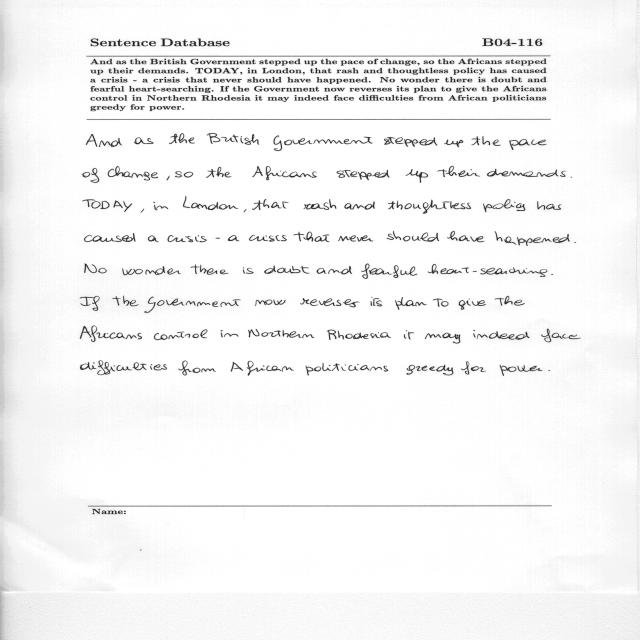word: (273, 135, 373, 151), (144, 297, 241, 313), (428, 264, 547, 277), (81, 361, 167, 375), (388, 200, 471, 214), (495, 231, 570, 246), (306, 363, 389, 375), (80, 326, 142, 342), (231, 361, 294, 376), (252, 166, 317, 180), (361, 264, 417, 279), (108, 166, 158, 181), (183, 197, 239, 210), (327, 330, 391, 340), (83, 199, 132, 212), (487, 169, 566, 177), (207, 133, 259, 145), (248, 329, 315, 338), (154, 329, 207, 340), (387, 231, 439, 242), (178, 361, 216, 376), (474, 330, 530, 340), (483, 199, 525, 212), (300, 298, 360, 307), (122, 267, 181, 276), (384, 137, 437, 147), (337, 170, 390, 180), (541, 329, 581, 342), (407, 365, 454, 376), (86, 134, 122, 147), (438, 166, 480, 177), (500, 365, 542, 376), (85, 233, 136, 242), (447, 231, 485, 242), (395, 297, 427, 310), (510, 139, 547, 150), (252, 199, 289, 210), (191, 264, 228, 275), (425, 333, 460, 344), (264, 266, 310, 274), (304, 199, 337, 210), (294, 232, 330, 242), (461, 361, 486, 375), (406, 169, 428, 183), (458, 299, 486, 310), (471, 136, 501, 146), (80, 296, 100, 311), (495, 296, 525, 306), (169, 133, 195, 144), (206, 167, 232, 178), (317, 266, 352, 274), (168, 235, 207, 242), (112, 296, 139, 306), (344, 202, 375, 210), (338, 235, 373, 242), (83, 168, 99, 183), (249, 235, 287, 241), (85, 264, 107, 274), (538, 201, 562, 210), (255, 300, 285, 306), (134, 138, 154, 145), (433, 298, 448, 307), (445, 140, 464, 147), (175, 171, 193, 178), (221, 331, 239, 338), (153, 202, 168, 210), (371, 297, 382, 306), (404, 330, 414, 339), (243, 267, 253, 274), (148, 236, 159, 242), (228, 235, 239, 241), (141, 208, 144, 213), (167, 176, 170, 180), (244, 209, 247, 213), (216, 238, 220, 239), (570, 177, 572, 178), (574, 242, 576, 243), (551, 274, 553, 275), (549, 370, 550, 371)
